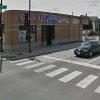Crosswalk: (16, 52, 100, 87)
